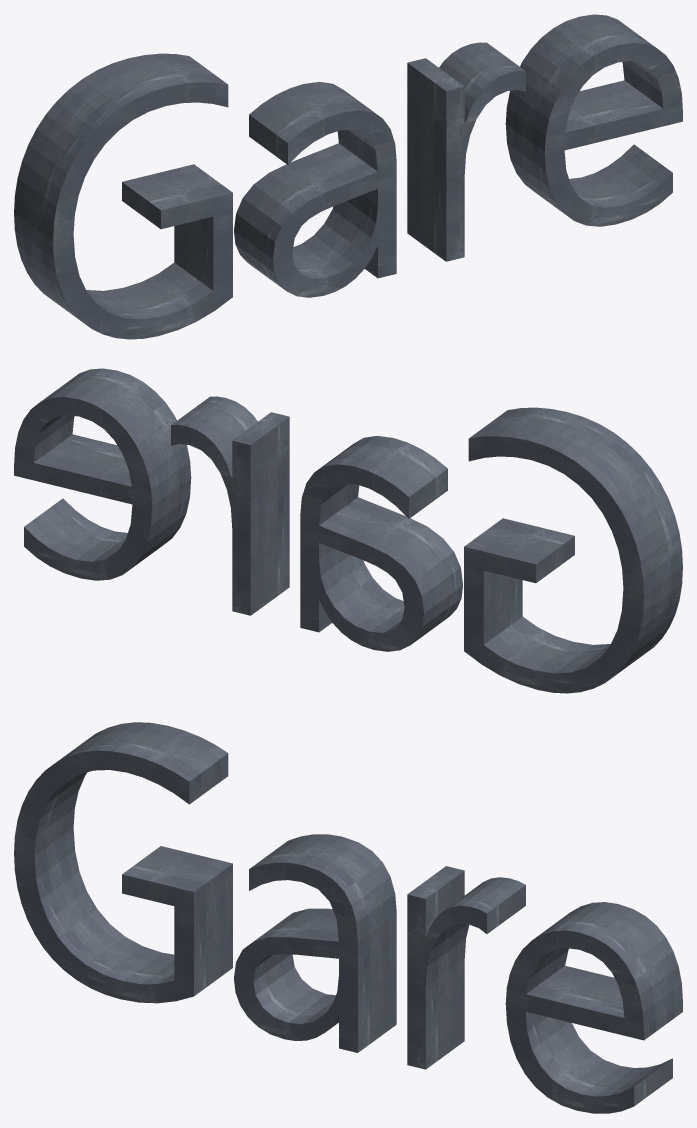
Rendered from Gare.fbx.
The picture shows the model from 3 angles, top to bottom: view 1: azimuth 30°, elevation 25°; view 2: azimuth 150°, elevation 25°; view 3: azimuth 330°, elevation 25°; orthographic projection.
Parts seen in each view (by area): view 1: Métal - Fer; view 2: Métal - Fer; view 3: Métal - Fer.
Part boxes in pixels (box(x1,y1,x2,y2)): Métal - Fer: box(14, 14, 682, 339); Métal - Fer: box(14, 368, 682, 693); Métal - Fer: box(14, 722, 682, 1113).
Size of the model in its own units: 280 by 30 by 105.
1 material, 1 textured.
